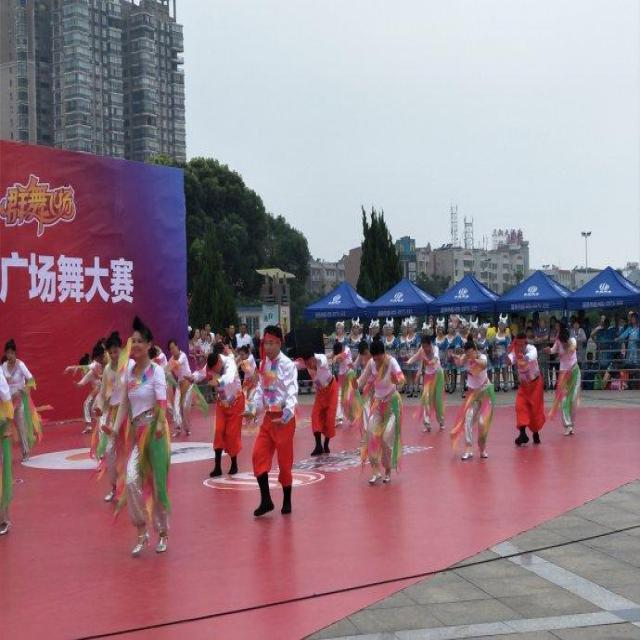non-fight: (106, 318, 170, 555), (248, 325, 300, 517), (85, 334, 133, 506), (356, 335, 406, 485), (197, 346, 246, 478), (450, 338, 497, 460), (508, 329, 548, 445), (542, 326, 582, 438), (2, 340, 38, 462), (405, 329, 446, 435), (300, 341, 338, 454), (165, 339, 196, 438)
